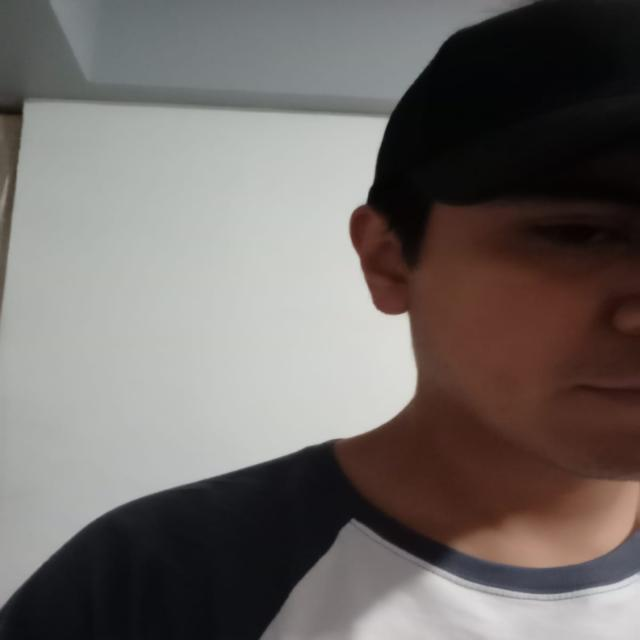ear: (350, 205, 415, 315)
